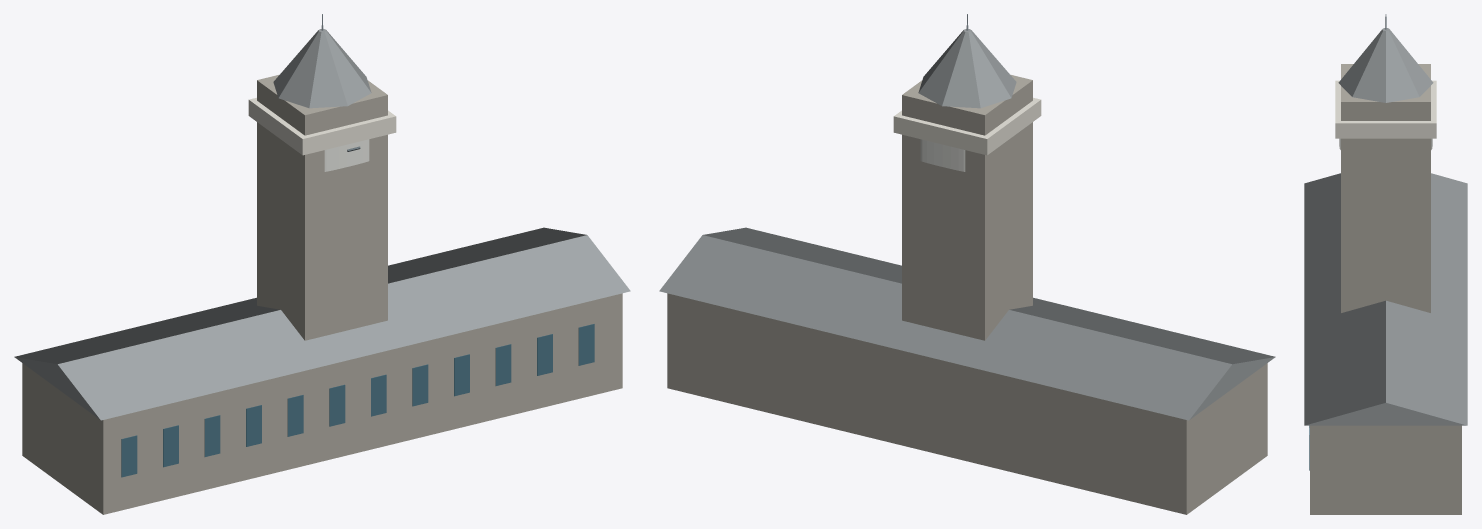
The picture shows the model from 3 angles, left to right: view 1: azimuth 30°, elevation 25°; view 2: azimuth 150°, elevation 25°; view 3: azimuth 270°, elevation 25°; orthographic projection. The views are drawn at different scales.
Parts seen in each view (by area): view 1: worldgen; view 2: worldgen; view 3: worldgen.
Part boxes in pixels (x1,y1,x2,y2): worldgen: (14, 14, 630, 514); worldgen: (659, 14, 1275, 514); worldgen: (1304, 14, 1467, 514).
Size of the model in its own units: 102 by 75 by 29.
